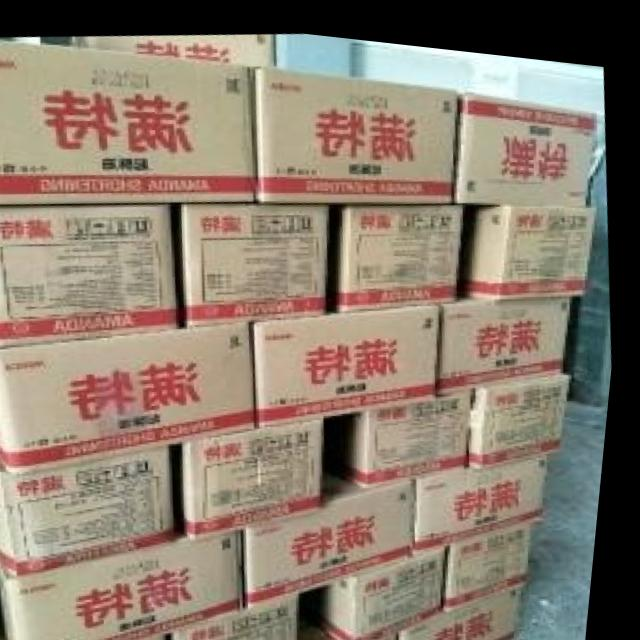box: (0, 312, 265, 471), (0, 39, 257, 200), (2, 520, 255, 640), (247, 59, 465, 198), (0, 202, 183, 345), (249, 456, 431, 597), (0, 438, 186, 570), (258, 292, 446, 418), (185, 197, 331, 321), (195, 405, 335, 533), (456, 78, 598, 193), (328, 375, 479, 476), (442, 276, 578, 381), (422, 437, 558, 540), (342, 196, 469, 303), (331, 533, 457, 640), (465, 189, 595, 285), (473, 357, 576, 458), (405, 572, 533, 640), (454, 507, 542, 597), (182, 582, 310, 640), (69, 27, 274, 59), (308, 604, 358, 640), (123, 625, 179, 640)
